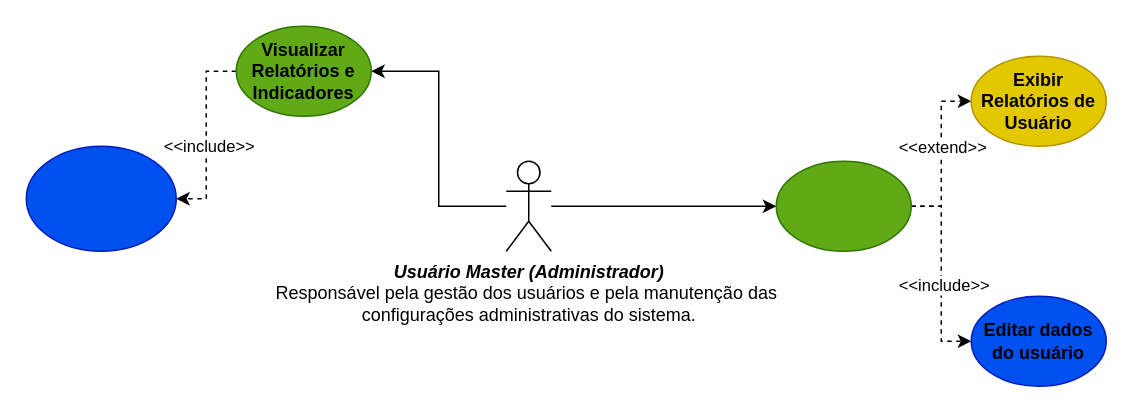
Some shapes in this 1133 by 413 pixel diagram are drawn without their labels. The centre of each missing label's shape, as x and y in pixels:
Gerenciar Relatórios: (100,198)
Gerenciar Usuários: (843,205)
